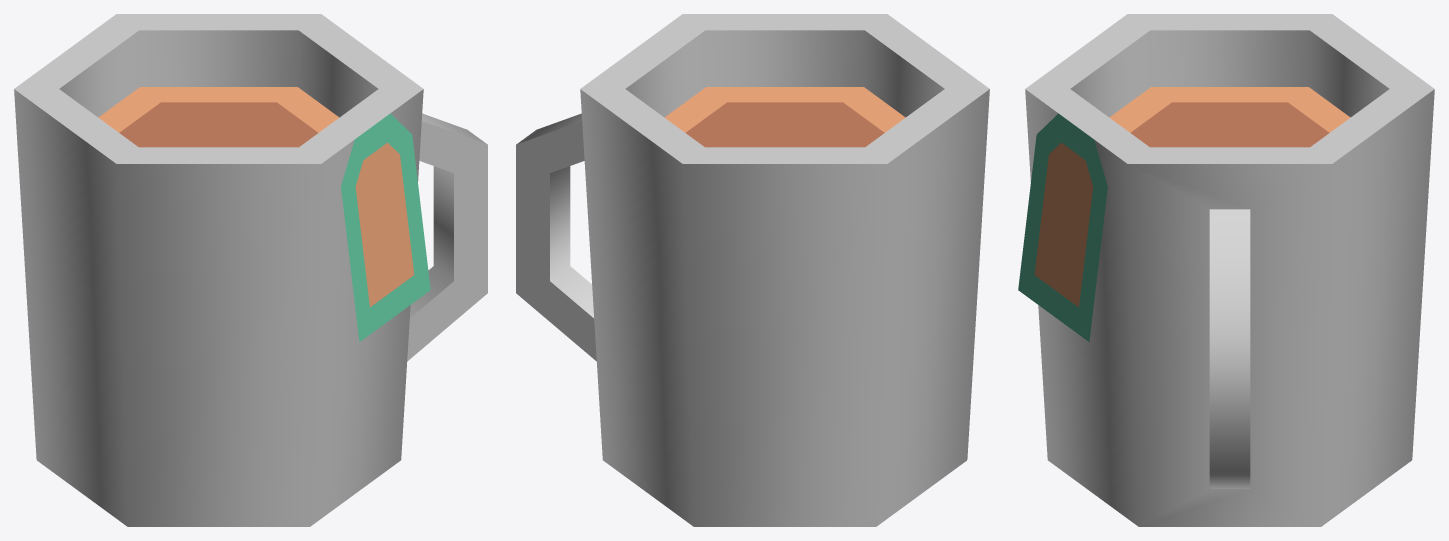
The model's file is cupThea.fbx.
3 renders of one model, left to right at view 1: azimuth 30°, elevation 25°; view 2: azimuth 150°, elevation 25°; view 3: azimuth 270°, elevation 25°, orthographic.
Visible parts, largest first — view 1: cupThea, label; view 2: cupThea; view 3: cupThea, label.
Part boxes in pixels (box(x1,y1,x2,y2)): cupThea: box(14, 14, 487, 526); label: box(341, 113, 430, 341); cupThea: box(516, 14, 989, 526); cupThea: box(1025, 14, 1434, 526); label: box(1018, 113, 1107, 341).
Bounding box in the file's own units: 2.32 × 2 × 2.03.
